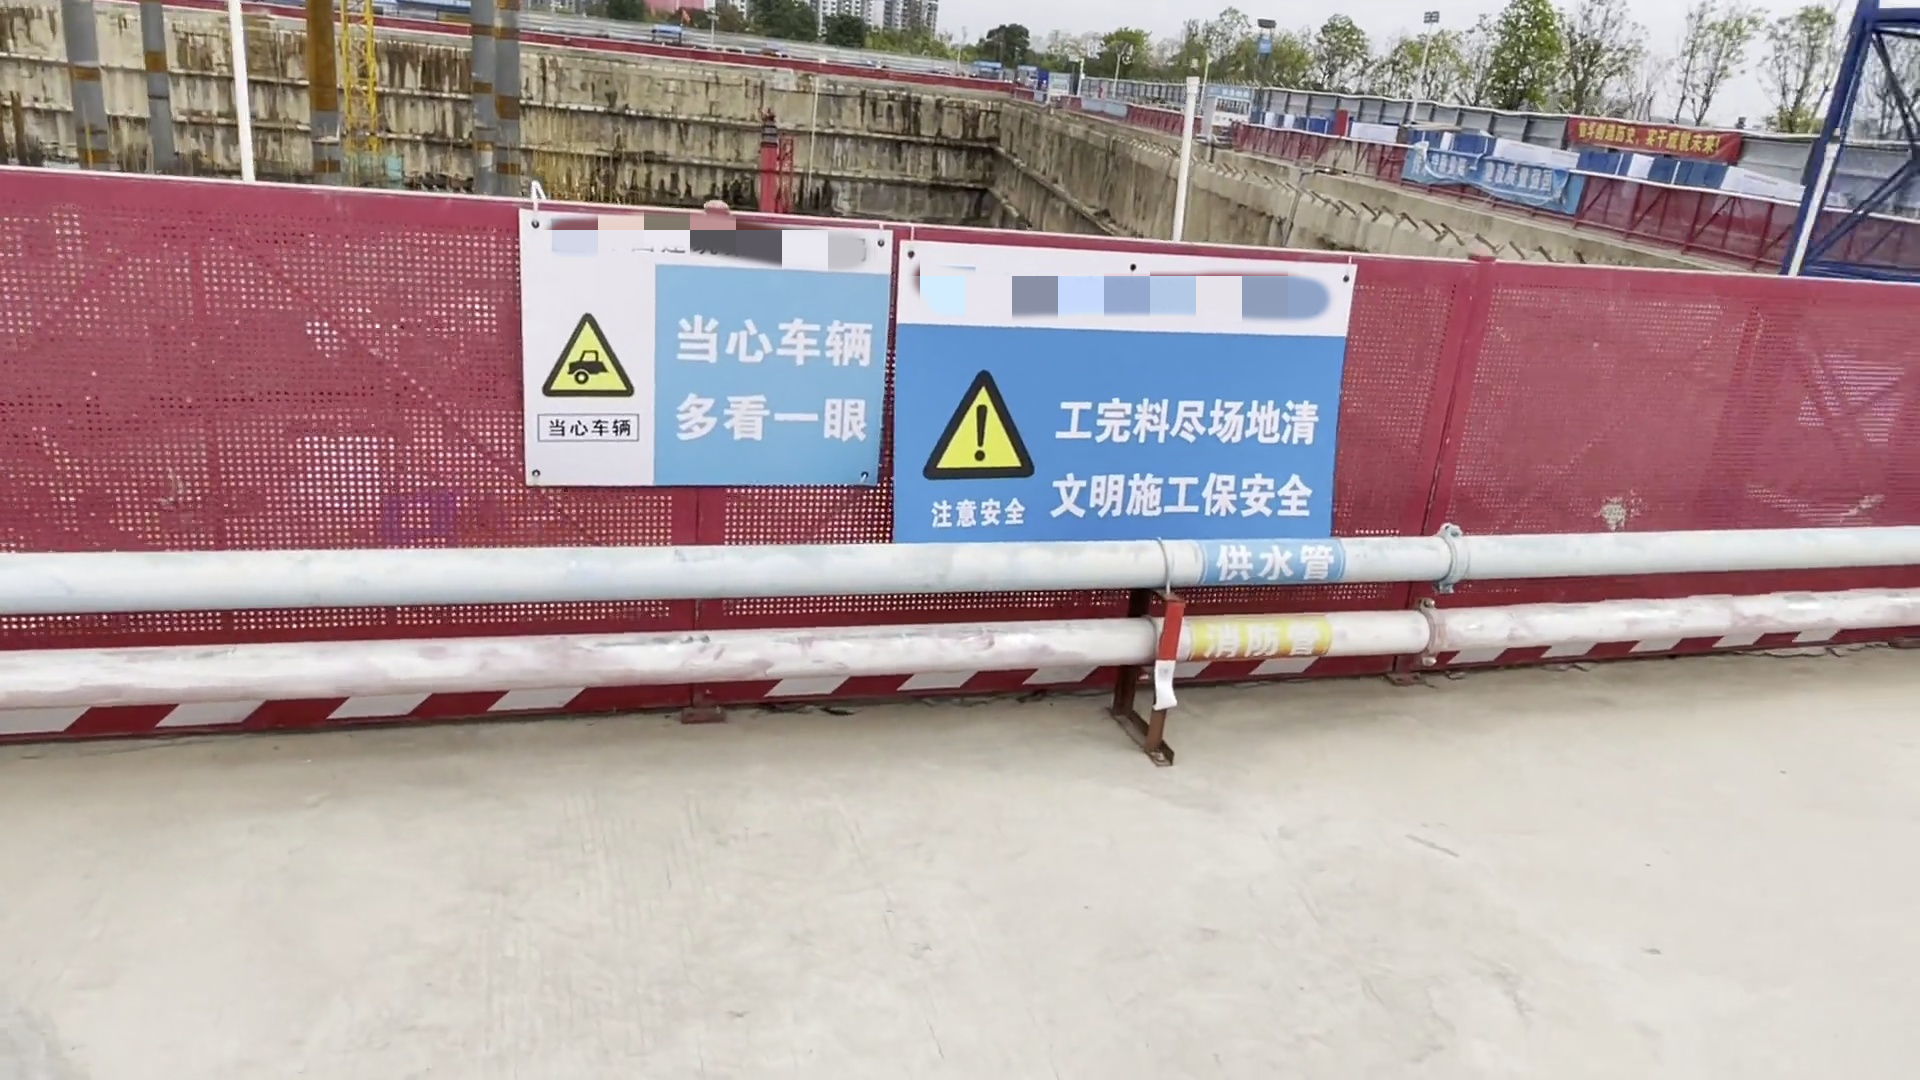slogan: (1379, 124, 1604, 219), (1555, 99, 1754, 166)
